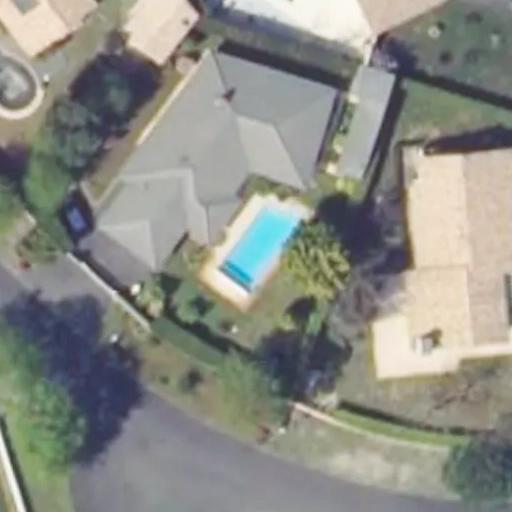pool: (216, 203, 305, 298)
